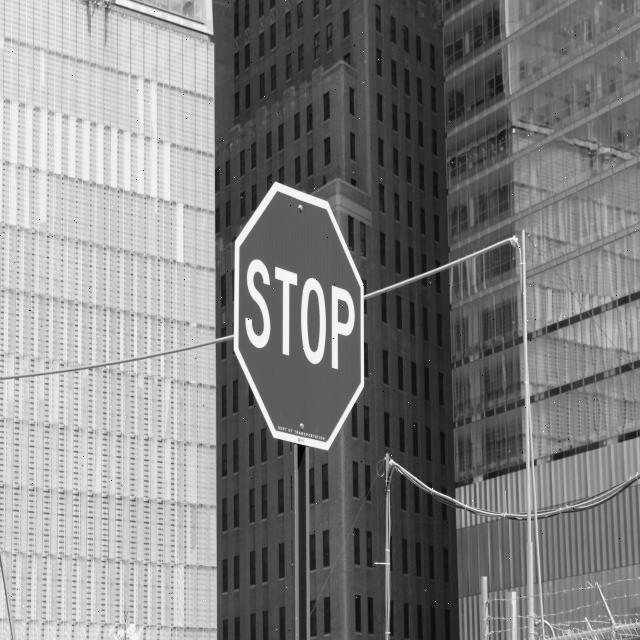Stop-sign: (225, 166, 382, 469)
